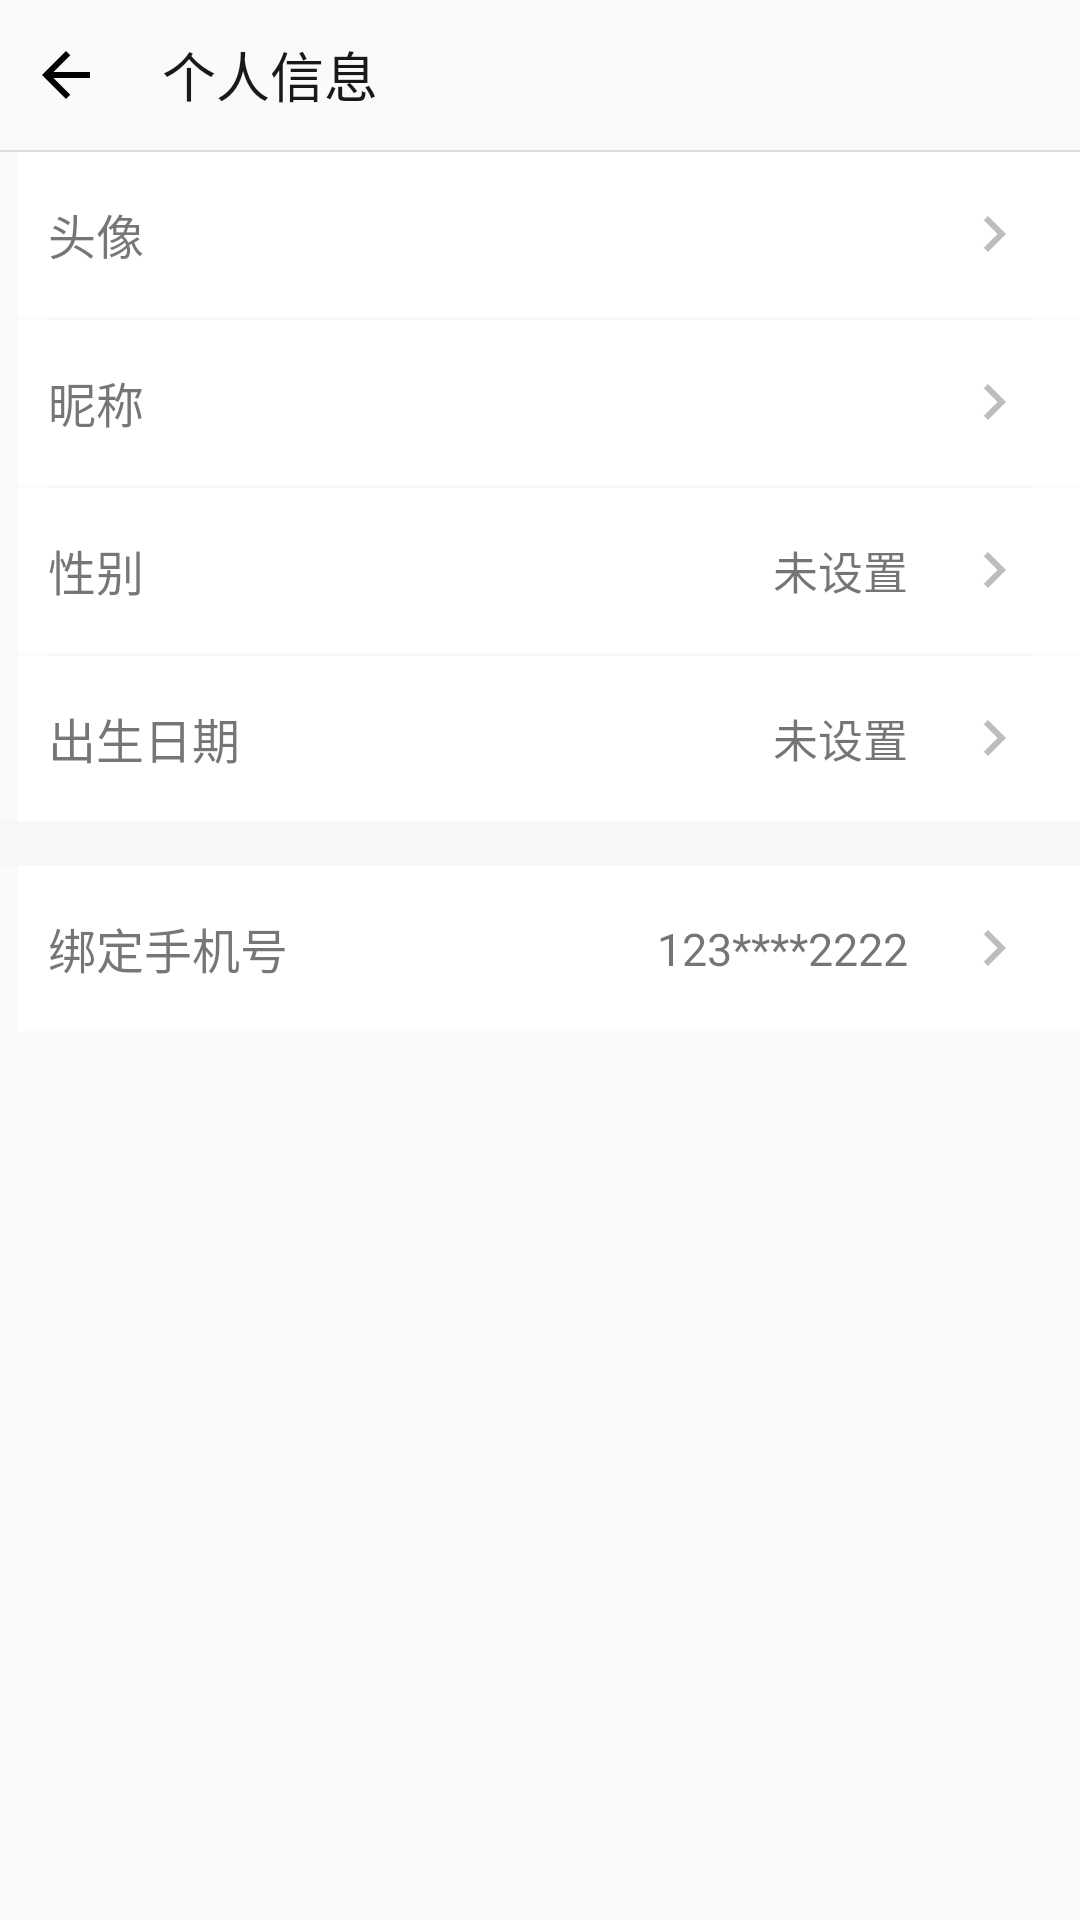

Named icons in this screenshot (1080px x 1920px) and their centers, (x,y):
arrow left: (66,75)
right arr: (995,234), (995,402), (995,570), (995,738), (995,948)
